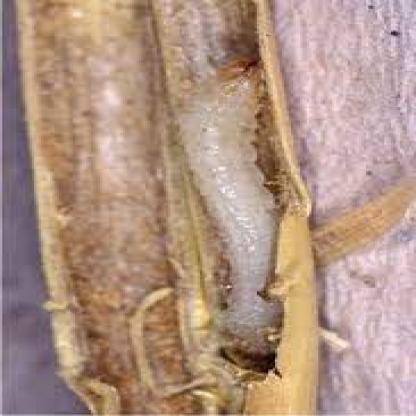sawfly: (161, 58, 295, 379)
